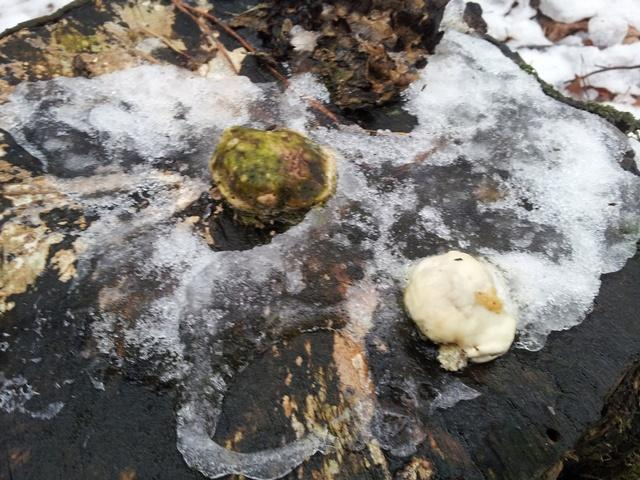poisonous_mushroom: (402, 248, 518, 371), (208, 123, 338, 230)
